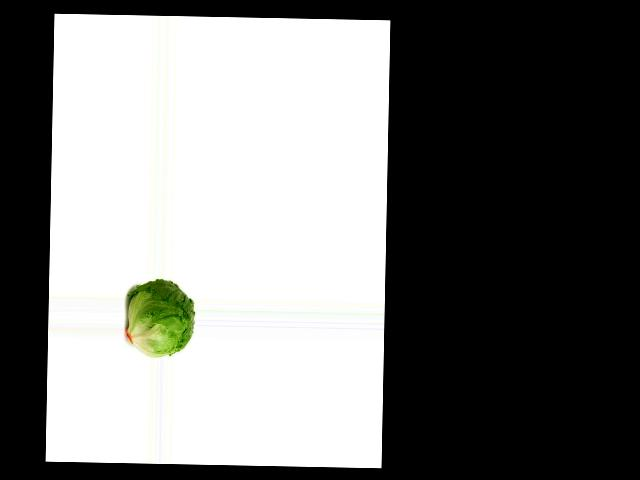lettuce: (127, 279, 195, 353)
